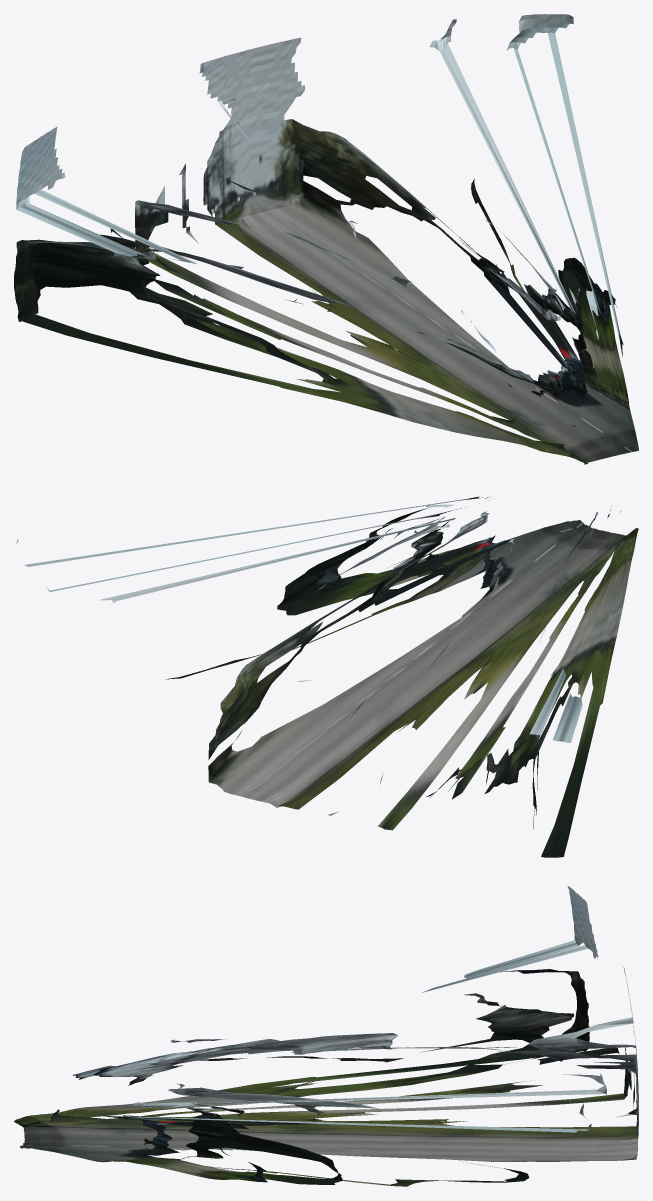
3 renders of one model, top to bottom at view 1: azimuth 30°, elevation 25°; view 2: azimuth 150°, elevation 25°; view 3: azimuth 270°, elevation 25°, orthographic. The views are drawn at different scales.
Parts seen in each view (by area): view 1: defaultobject; view 2: defaultobject; view 3: defaultobject.
Part boxes in pixels (x1,y1,x2,y2): defaultobject: (14, 14, 638, 464); defaultobject: (16, 496, 638, 857); defaultobject: (14, 886, 638, 1186).
Size of the model in its own units: 40.84 by 13.32 by 45.27.
Materials: 1 (1 with a texture image).
